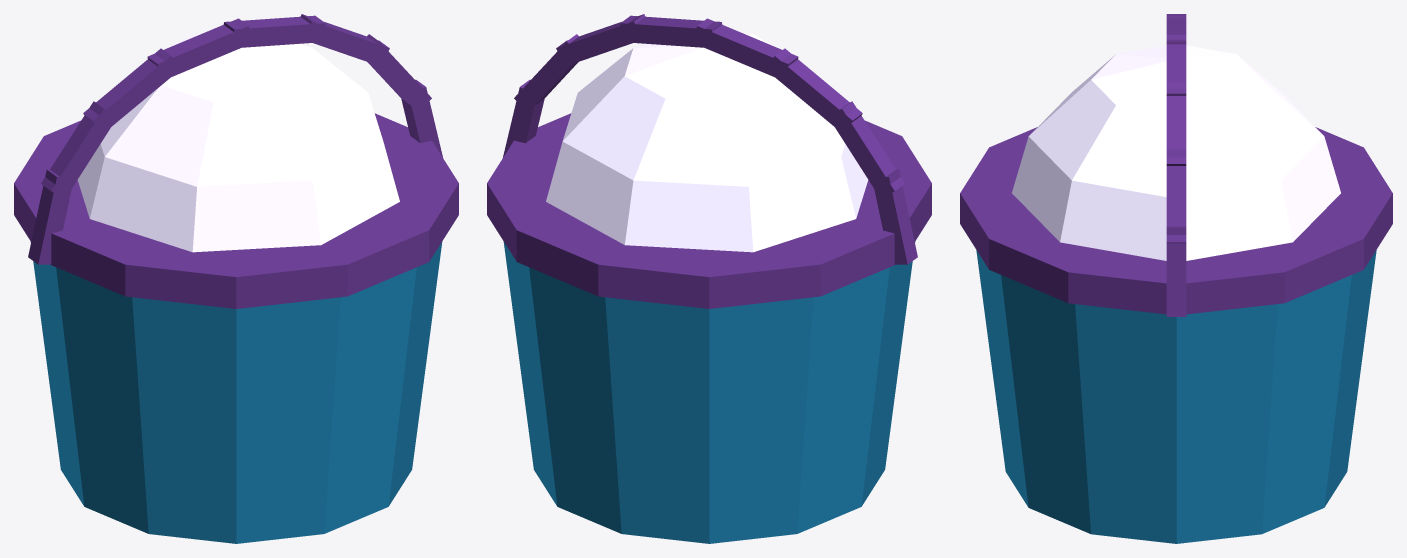
The model's file is mop-bucket.glb.
3 renders of one model, left to right at view 1: azimuth 30°, elevation 25°; view 2: azimuth 150°, elevation 25°; view 3: azimuth 270°, elevation 25°, orthographic. The views are drawn at different scales.
Visible parts, largest first — view 1: bucket; view 2: bucket; view 3: bucket.
Boxes of the visible parts, left/top/right/bottom form: bucket: left=14, top=14, right=458, bottom=543; bucket: left=487, top=14, right=931, bottom=543; bucket: left=960, top=14, right=1392, bottom=543.
Size of the model in its own units: 0.8021 by 0.8402 by 0.76.
